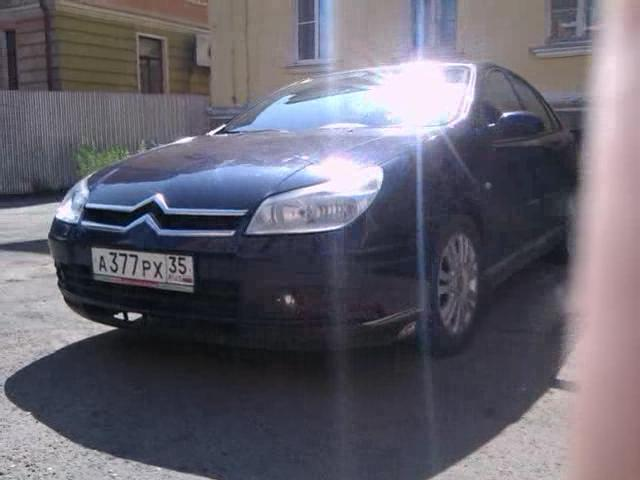car license plate: (88, 245, 198, 297)
